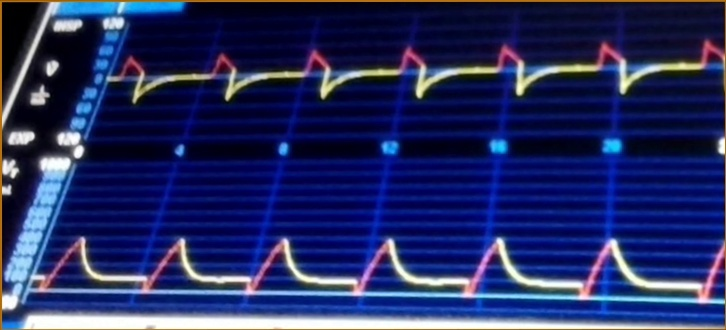Flow: (118, 26, 725, 119)
Leakage Volume: (37, 222, 726, 312)
